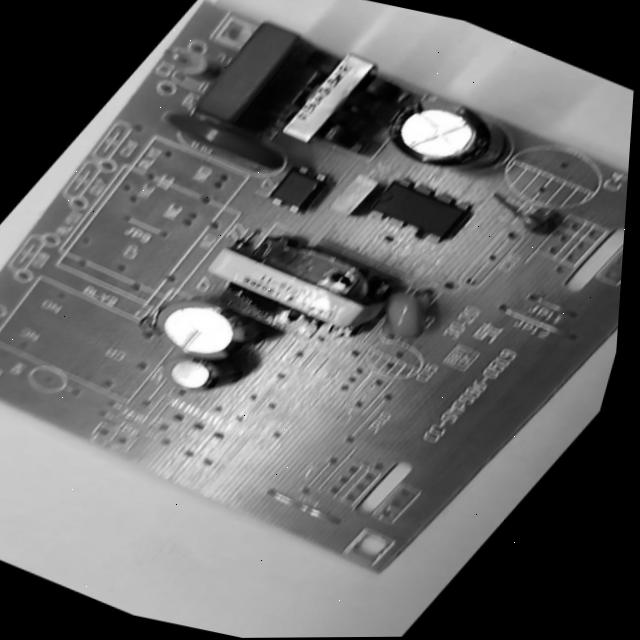Cap1: (134, 280, 272, 374)
Cap2: (152, 348, 231, 401)
Cap3: (367, 83, 524, 185)
MOSFET: (359, 169, 480, 252)
Mov: (145, 101, 290, 175)
Resistor: (152, 39, 227, 89)
Transformer: (182, 213, 415, 355), (253, 32, 424, 169)
